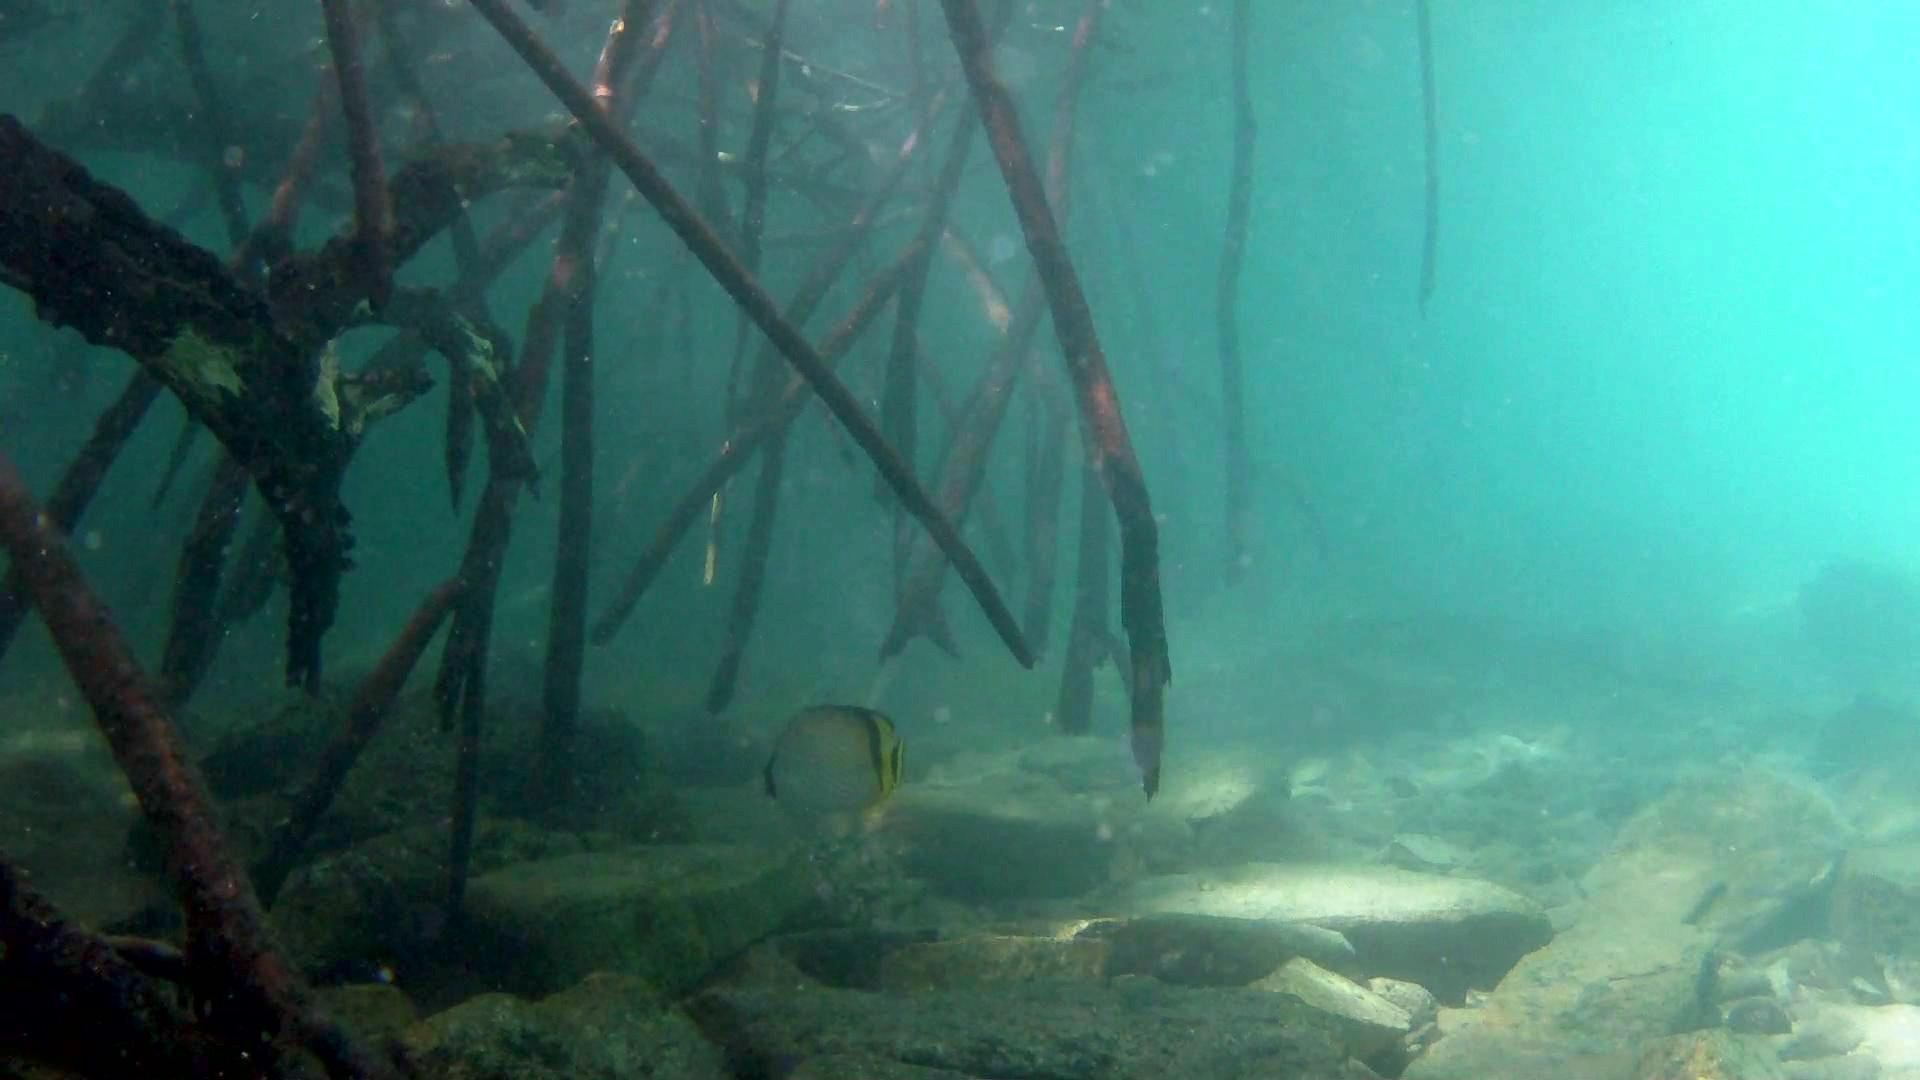chaetodon vagabundus: (744, 701, 907, 819)
